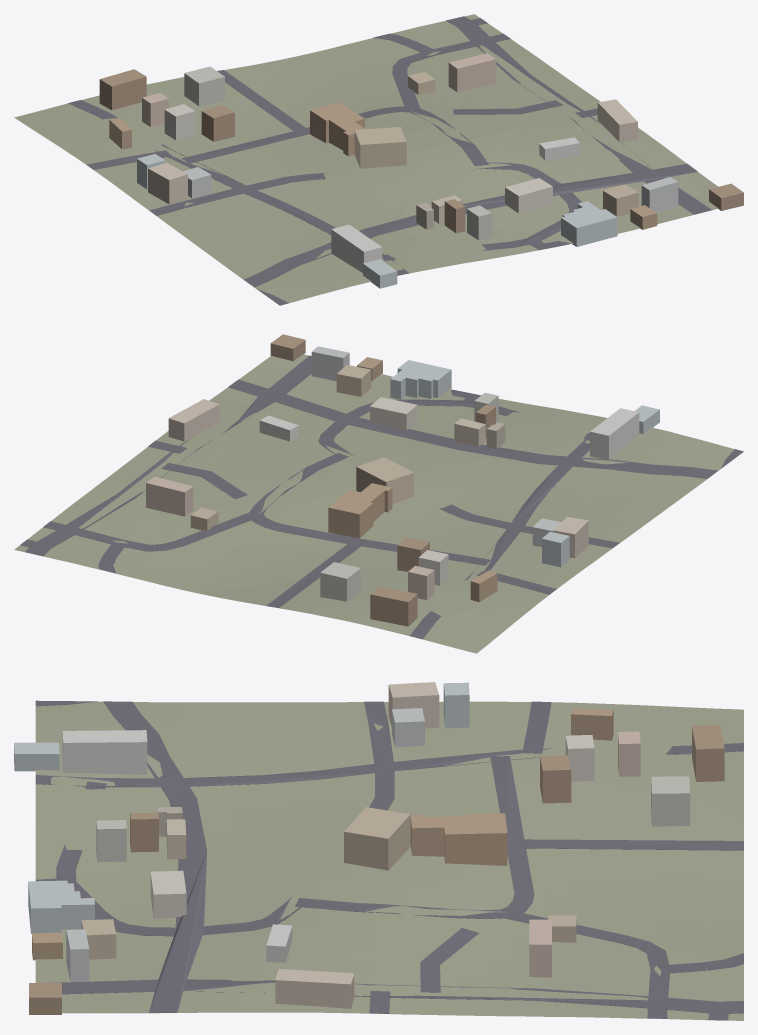
The model's file is chunk_10_6.glb.
3 renders of one model, top to bottom at view 1: azimuth 30°, elevation 25°; view 2: azimuth 150°, elevation 25°; view 3: azimuth 270°, elevation 25°, orthographic. The views are drawn at different scales.
Parts seen in each view (by area): view 1: geometry_27, geometry_28, geometry_31, geometry_13, geometry_26, geometry_36, geometry_0, geometry_37, geometry_7, geometry_24, geometry_22, geometry_20 (+25 smaller); view 2: geometry_27, geometry_28, geometry_31, geometry_26, geometry_36, geometry_37, geometry_0, geometry_7, geometry_13, geometry_24, geometry_43, geometry_22 (+19 smaller); view 3: geometry_27, geometry_28, geometry_31, geometry_26, geometry_36, geometry_7, geometry_37, geometry_13, geometry_0, geometry_5, geometry_44, geometry_43 (+27 smaller).
Part boxes in pixels (<box>): geometry_27: <box>14,14,718,304</box>; geometry_28: <box>244,163,697,287</box>; geometry_31: <box>445,16,711,214</box>; geometry_13: <box>354,127,406,168</box>; geometry_26: <box>310,102,365,156</box>; geometry_36: <box>181,106,488,165</box>; geometry_0: <box>561,201,617,246</box>; geometry_37: <box>68,100,335,234</box>; geometry_7: <box>331,224,382,272</box>; geometry_24: <box>99,69,146,110</box>; geometry_22: <box>448,53,495,92</box>; geometry_20: <box>184,66,224,106</box>; geometry_27: <box>14,354,742,653</box>; geometry_28: <box>228,379,717,478</box>; geometry_31: <box>25,355,311,556</box>; geometry_26: <box>328,483,392,538</box>; geometry_36: <box>250,453,491,565</box>; geometry_37: <box>410,461,576,639</box>; geometry_0: <box>390,360,451,399</box>; geometry_7: <box>590,408,639,459</box>; geometry_13: <box>356,457,413,504</box>; geometry_24: <box>370,586,417,626</box>; geometry_43: <box>66,511,259,551</box>; geometry_22: <box>146,476,193,516</box>; geometry_27: <box>35,701,743,1020</box>; geometry_28: <box>103,701,207,1012</box>; geometry_31: <box>49,979,743,1013</box>; geometry_26: <box>410,813,507,865</box>; geometry_36: <box>295,756,534,919</box>; geometry_7: <box>62,730,147,774</box>; geometry_37: <box>171,743,743,786</box>; geometry_13: <box>344,807,410,870</box>; geometry_0: <box>28,880,94,933</box>; geometry_5: <box>275,969,354,1008</box>; geometry_44: <box>515,839,743,850</box>; geometry_43: <box>502,910,669,1003</box>.
Size of the model in its own units: 250 by 20.21 by 258.
